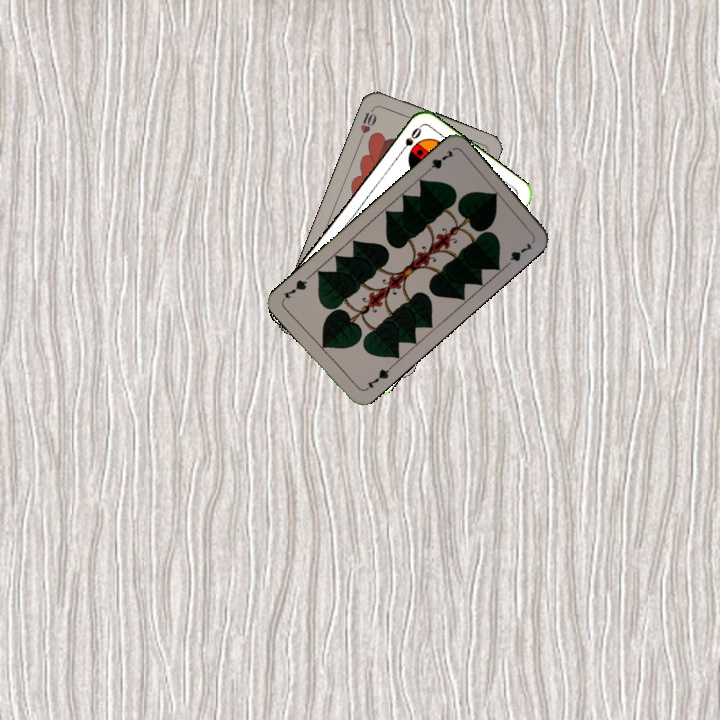G7: (421, 146, 457, 177), (360, 362, 394, 393)
H10: (356, 103, 379, 142)
SO: (395, 123, 424, 158)
